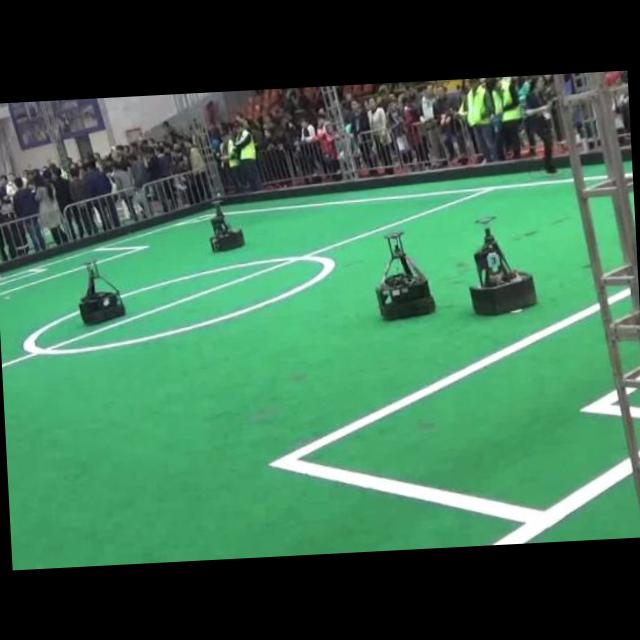robot: (470, 227, 535, 313), (376, 232, 434, 318), (79, 261, 125, 322), (209, 201, 245, 251)
